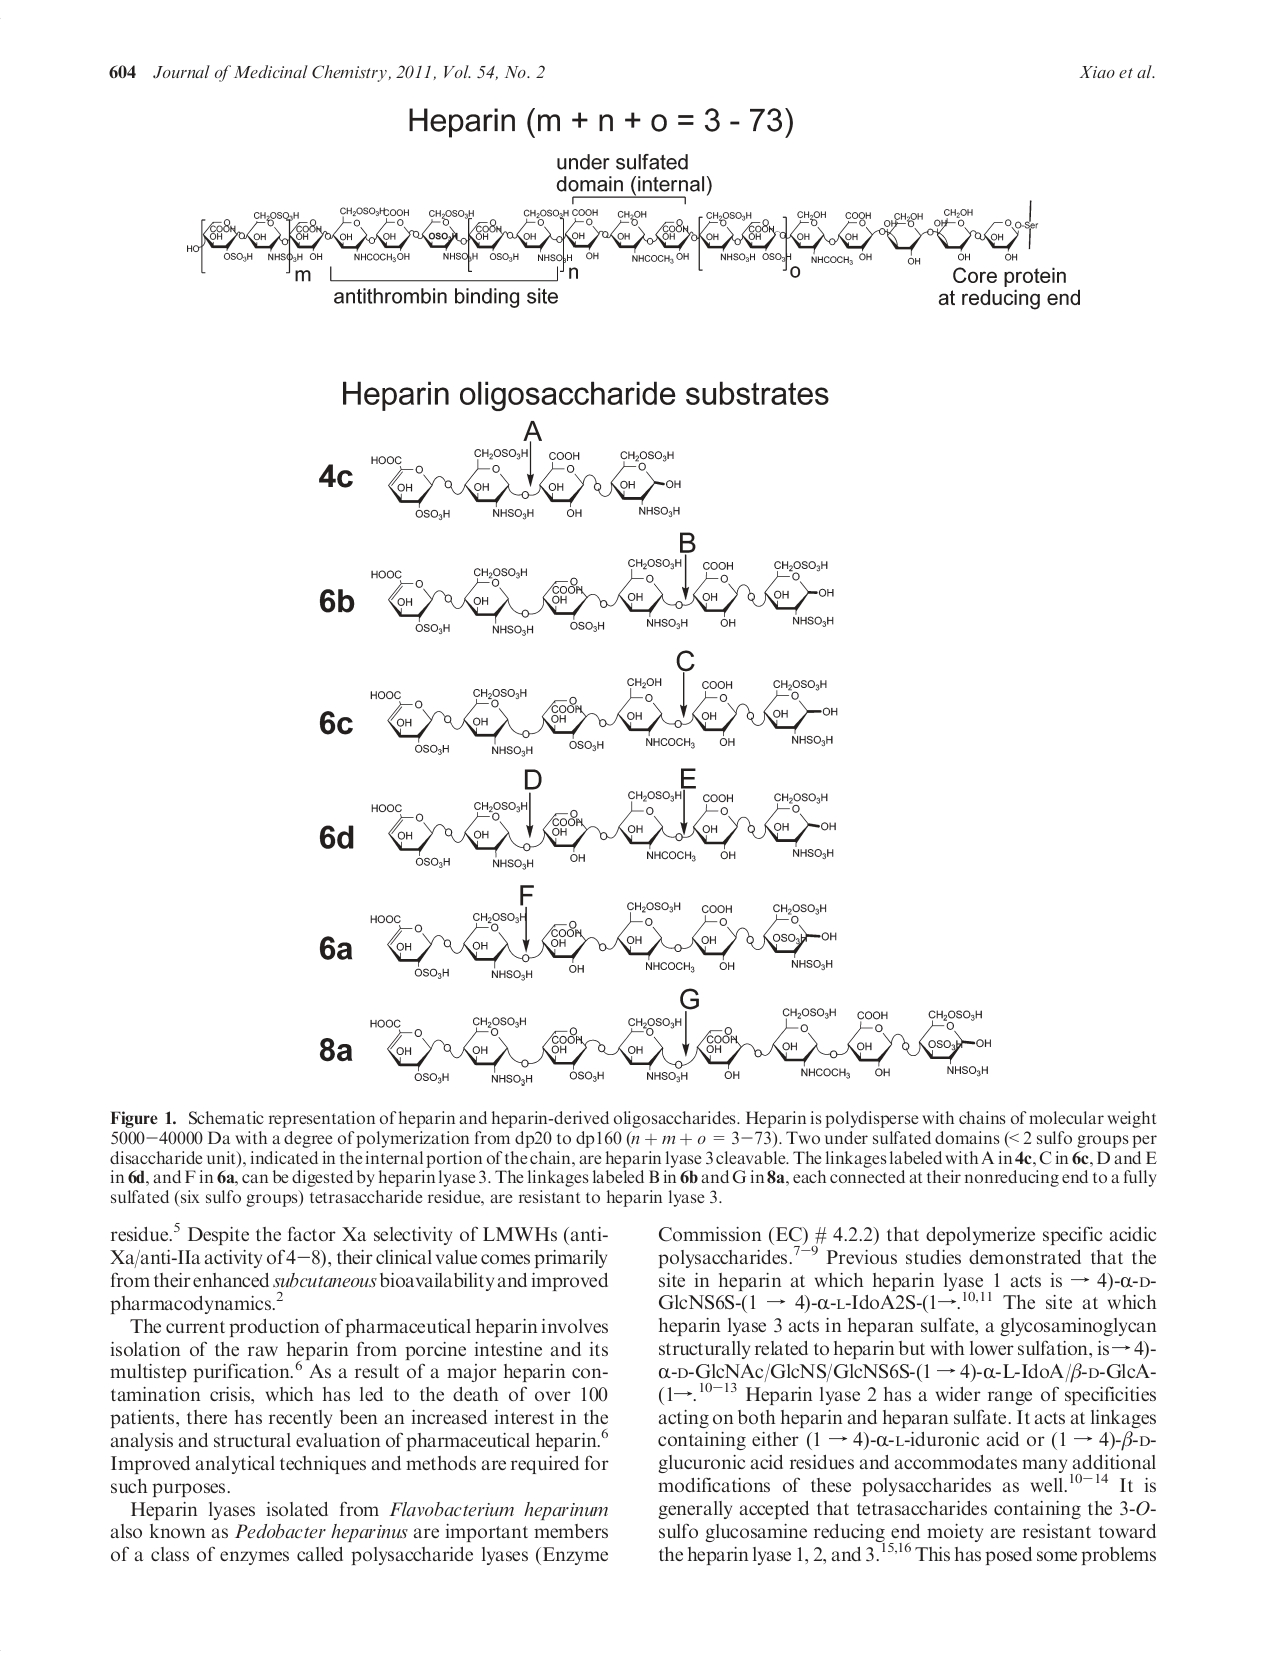exist_molecular: (177, 199, 1048, 282), (359, 1005, 997, 1087), (368, 899, 842, 985), (364, 787, 840, 872), (362, 676, 846, 755), (368, 553, 840, 634), (368, 446, 690, 527)
